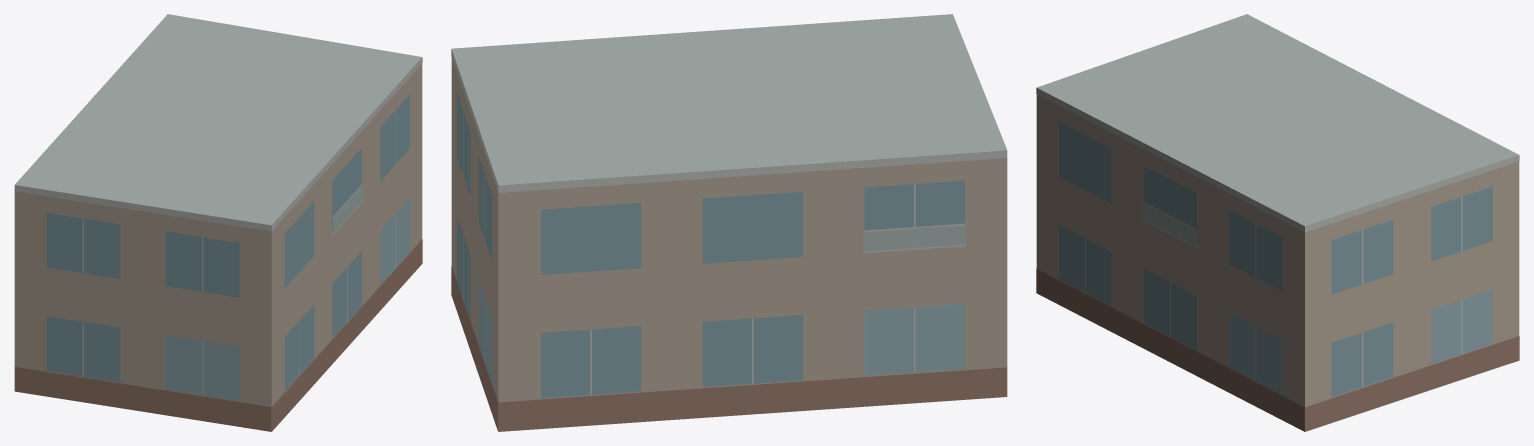
File: survey-upis-32831055.glb
3 renders of one model, left to right at view 1: azimuth 30°, elevation 25°; view 2: azimuth 150°, elevation 25°; view 3: azimuth 270°, elevation 25°, orthographic. The views are drawn at different scales.
Visible parts, largest first — view 1: survey-upis-32831055.tmp; view 2: survey-upis-32831055.tmp; view 3: survey-upis-32831055.tmp.
Part boxes in pixels (bbox=[...]): survey-upis-32831055.tmp: bbox=[14, 14, 422, 431]; survey-upis-32831055.tmp: bbox=[451, 14, 1007, 431]; survey-upis-32831055.tmp: bbox=[1036, 14, 1519, 431].
Bounding box in the file's own units: 17.61 × 7.95 × 16.93.
